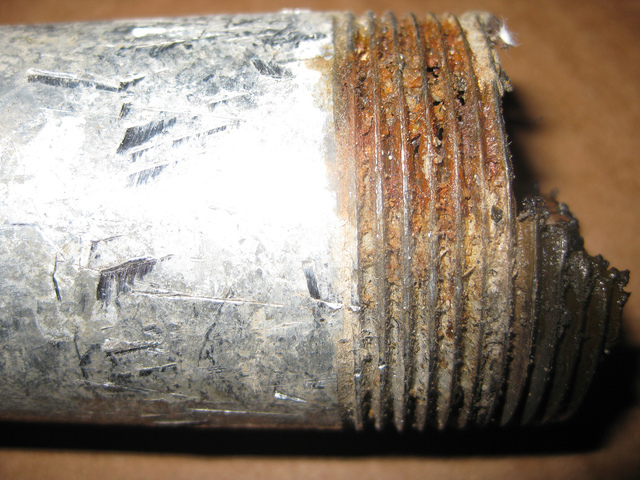Severe: (316, 11, 632, 429)
